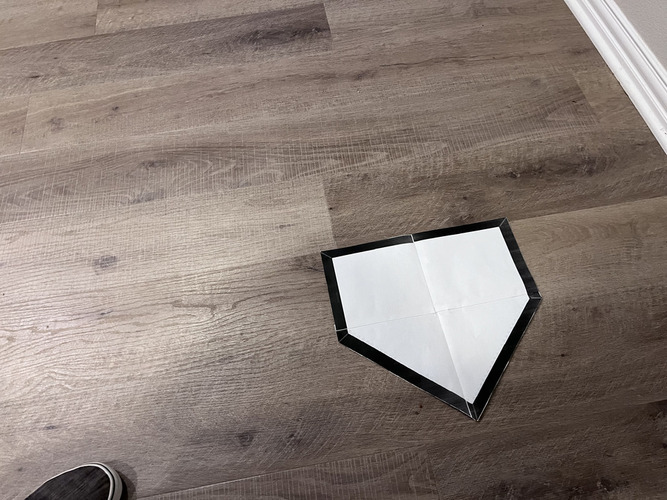homeplate: (319, 216, 542, 424)
